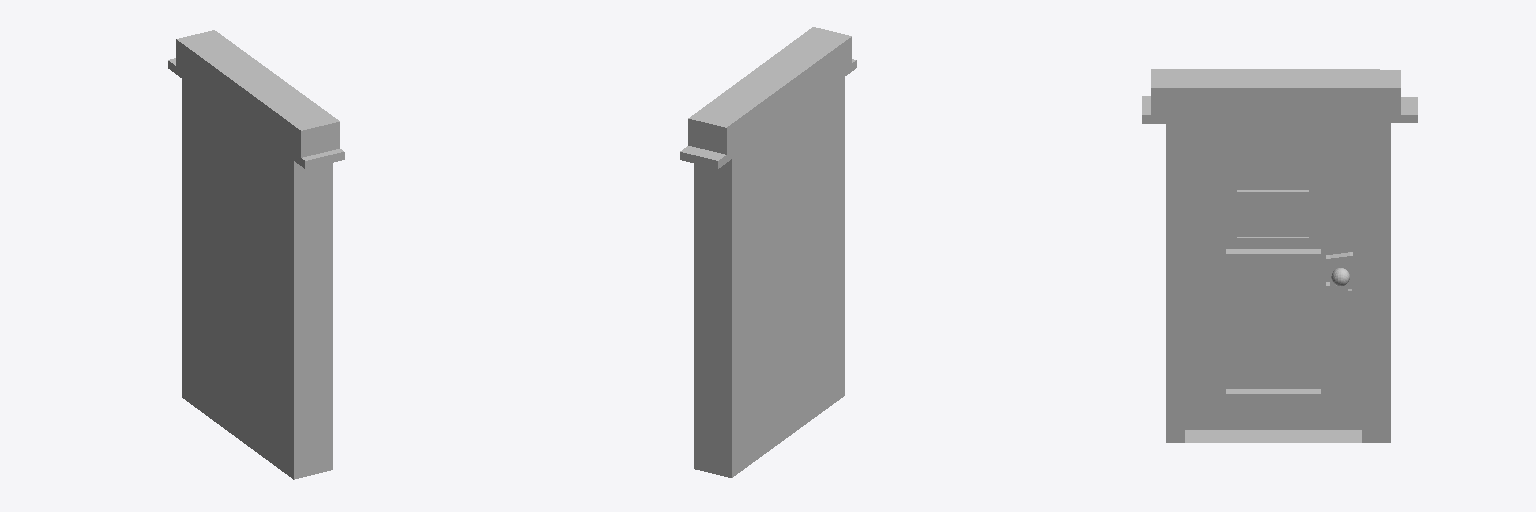
The model's file is puerta_cocina.obj.
3 views of the same model, side by side, from view 1: azimuth 30°, elevation 25°; view 2: azimuth 150°, elevation 25°; view 3: azimuth 270°, elevation 25° (orthographic).
Parts seen in each view (by area): view 1: pCube1; view 2: pCube1; view 3: pCube1.
Part boxes in pixels (left/top/right/bottom): pCube1: left=168, top=30, right=344, bottom=479; pCube1: left=680, top=27, right=856, bottom=477; pCube1: left=1142, top=69, right=1417, bottom=442.
Bounding box in the file's own units: 0.5851 × 5.06 × 3.57.